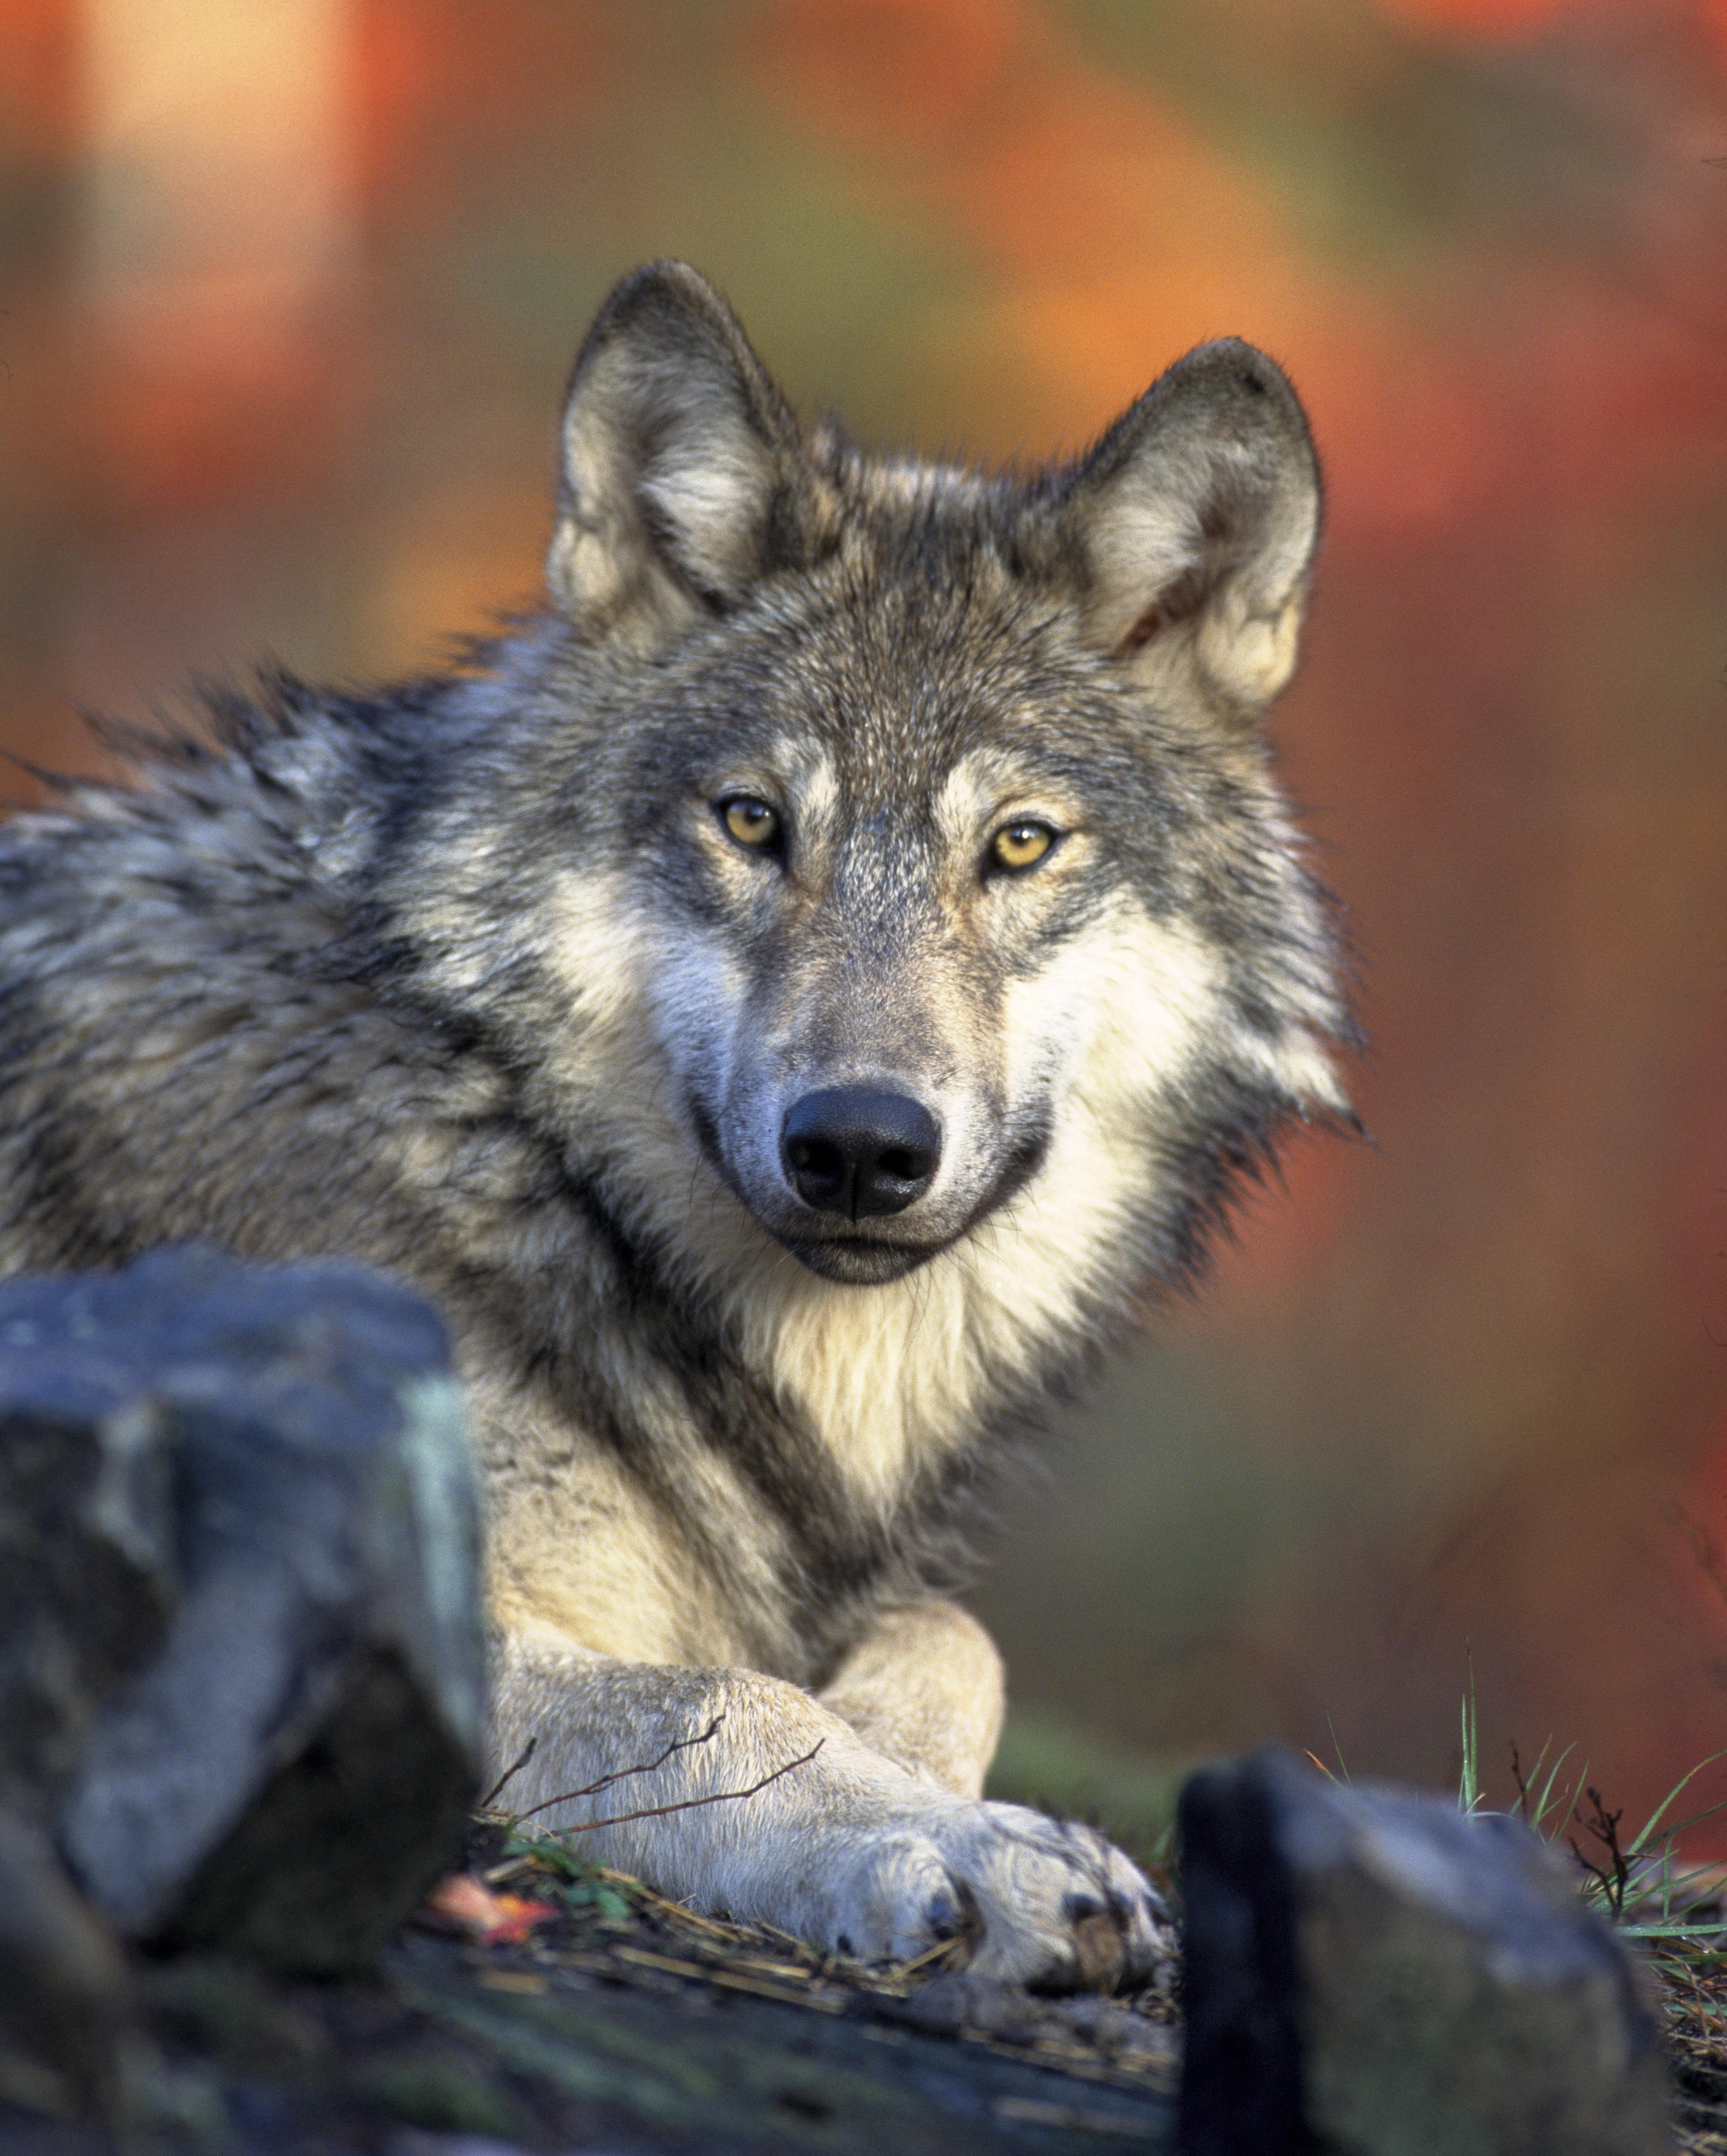Wolf: (0, 249, 1369, 2024)
